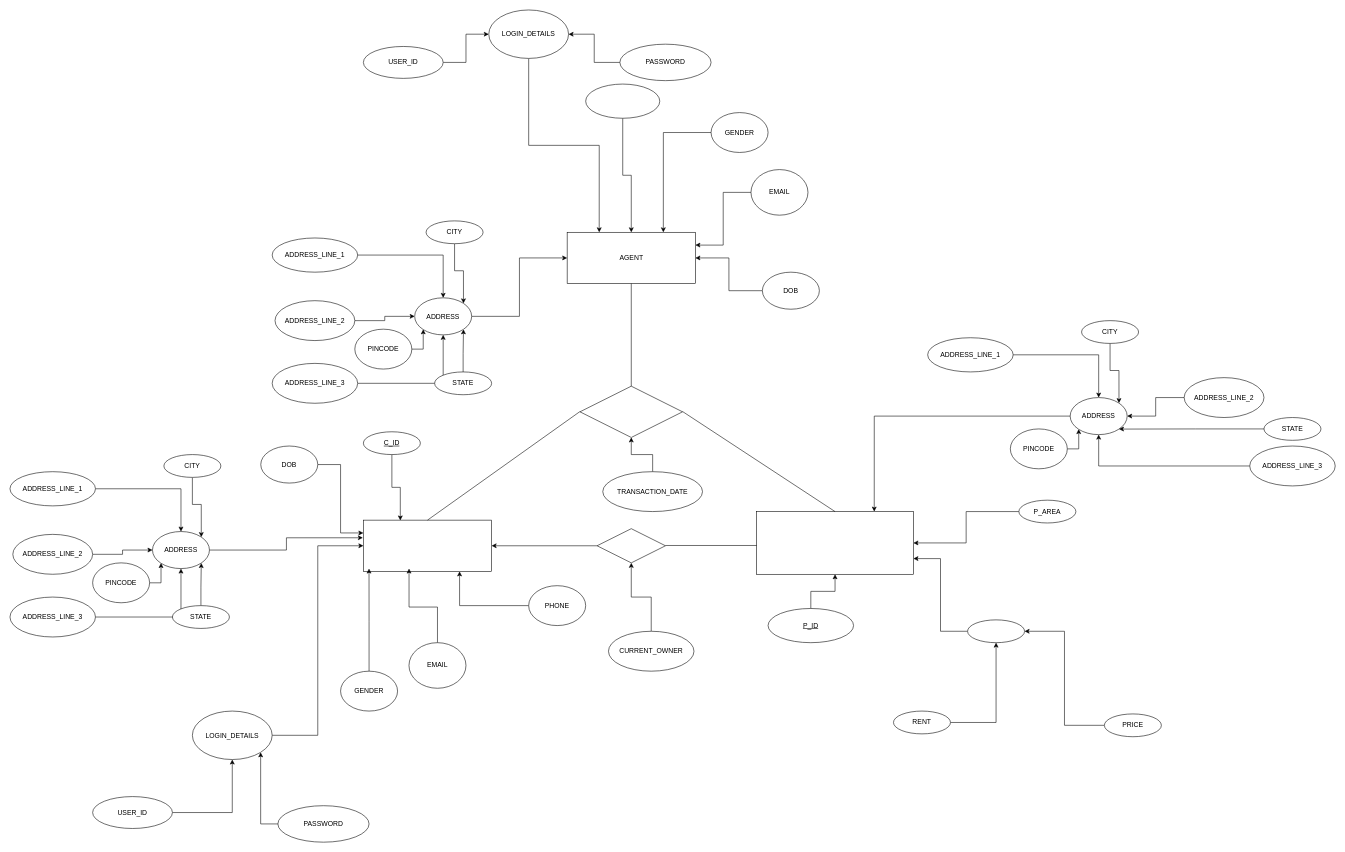
This 1345x852 diagram has some shape labels left out. Here are the shapes that lost their labels. From the top down, the box of each, then its label:
(585, 84, 660, 118): A_ID
(579, 386, 683, 437): TRANSACTIONS
(363, 520, 492, 571): CUSTOMER
(597, 528, 665, 563): OWNERSHIP
(756, 511, 913, 574): PROPERTY
(967, 619, 1025, 643): VALUE
